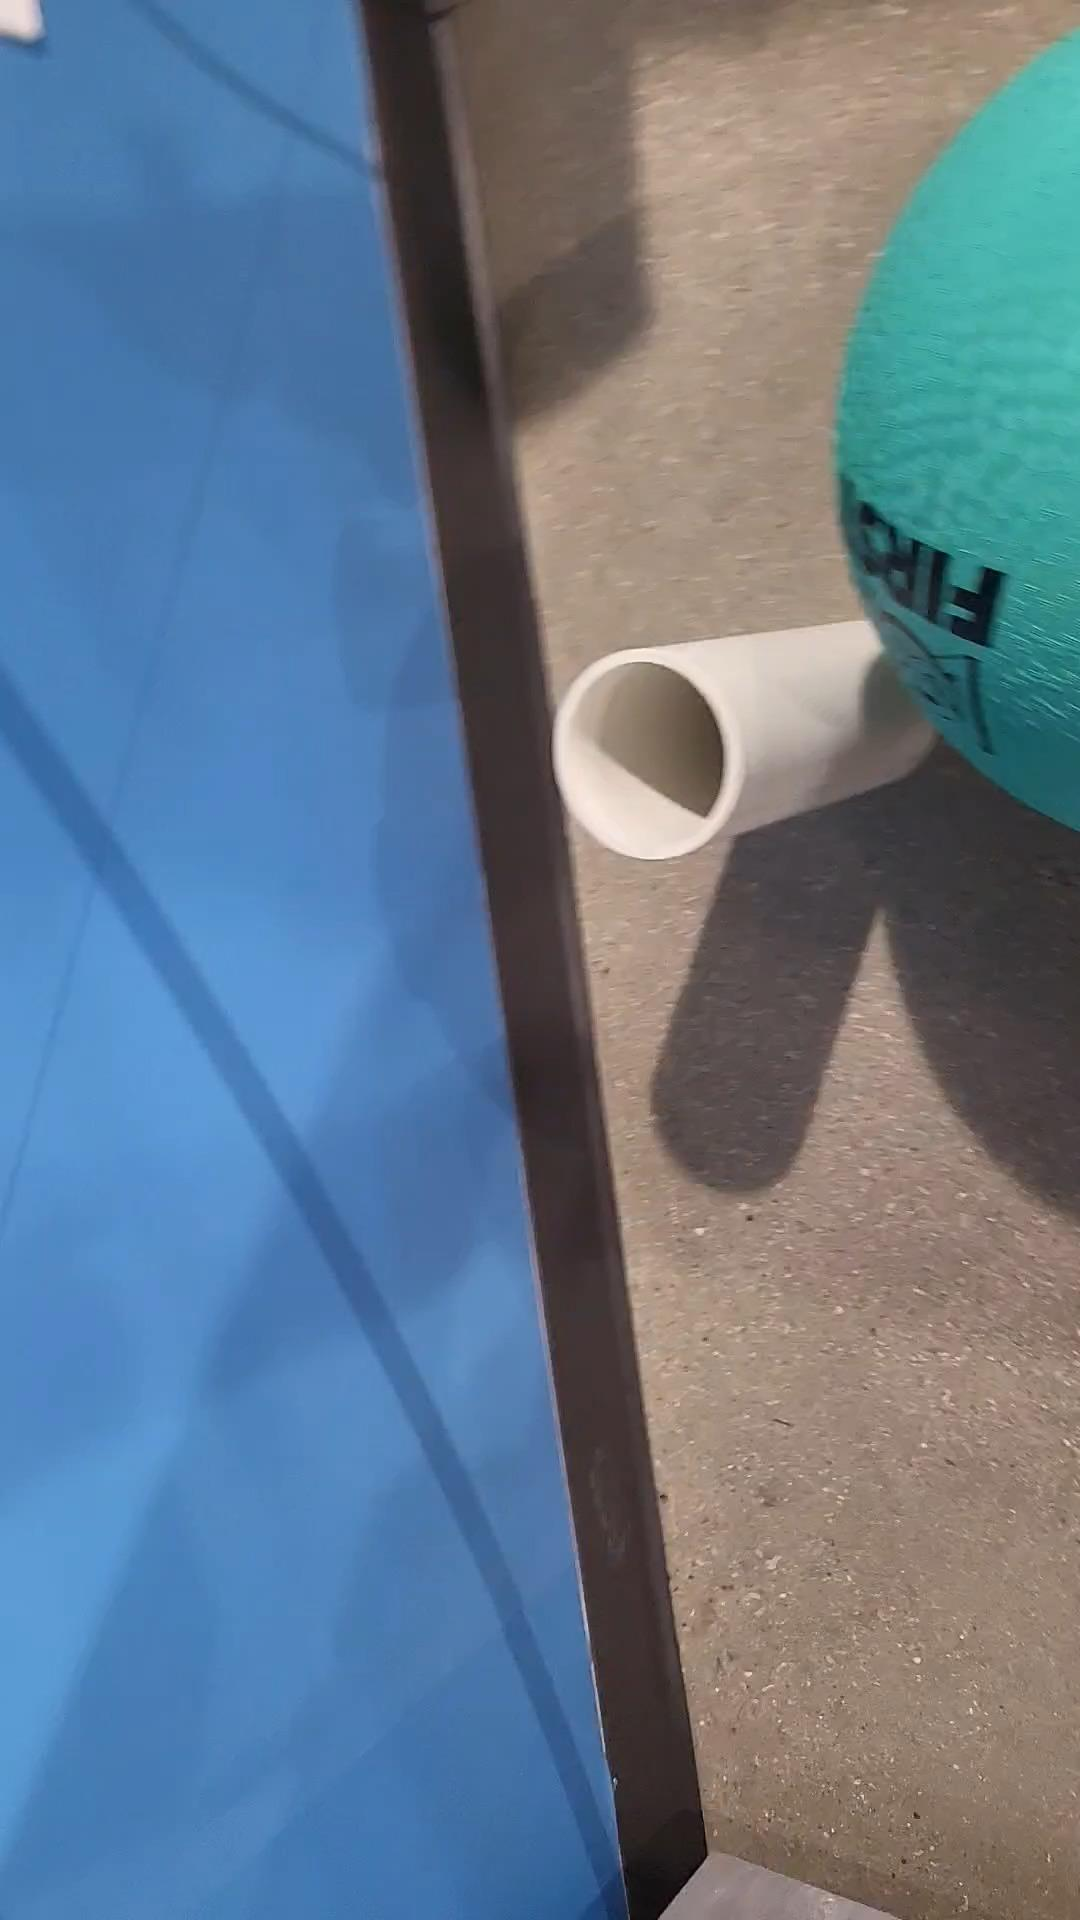algae: (829, 17, 1080, 835)
coral: (554, 608, 930, 870)
